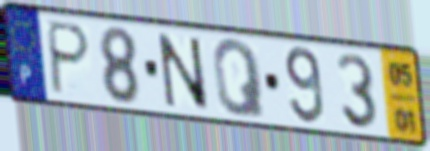3: (335, 52, 380, 131)
8: (95, 24, 142, 107)
9: (283, 44, 326, 126)
N: (154, 30, 213, 114)
P: (46, 18, 93, 98)
Q: (210, 37, 269, 121)
